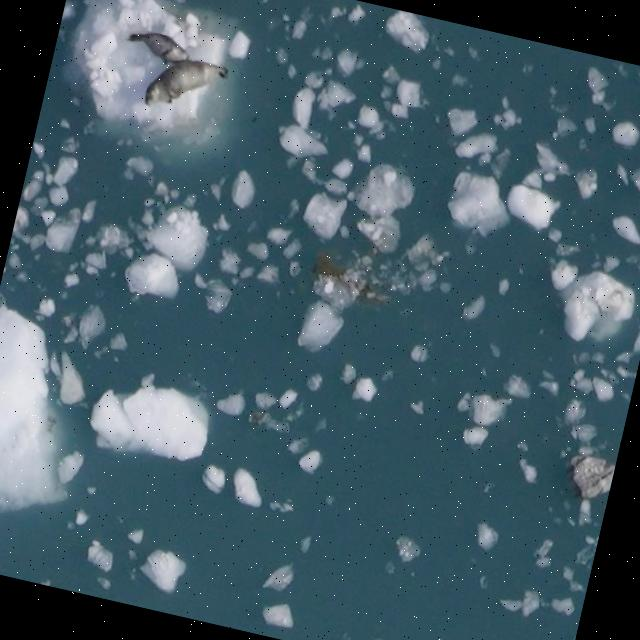seal: (144, 57, 228, 105), (125, 33, 192, 63)
